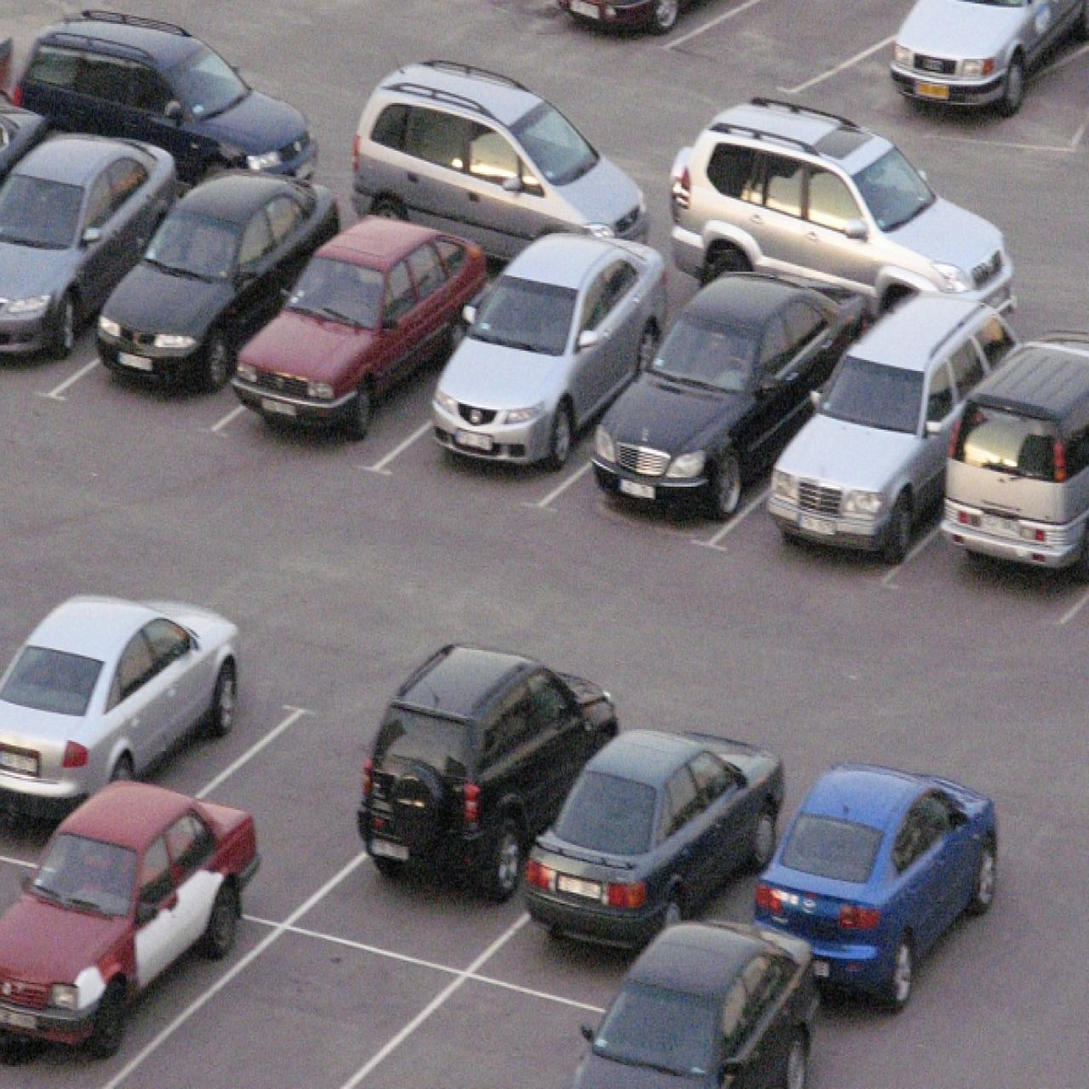cars: (350, 663, 633, 959), (526, 714, 798, 1008), (724, 766, 1008, 1043), (1, 598, 236, 870), (0, 827, 220, 1082), (753, 359, 975, 607), (576, 330, 812, 546), (408, 310, 645, 516), (64, 241, 289, 443), (926, 390, 1089, 643), (262, 287, 456, 474), (588, 959, 823, 1084), (0, 207, 132, 409), (880, 0, 1047, 127)
empty: (202, 629, 435, 925), (174, 914, 379, 1084), (384, 940, 601, 1089), (696, 0, 867, 88)
